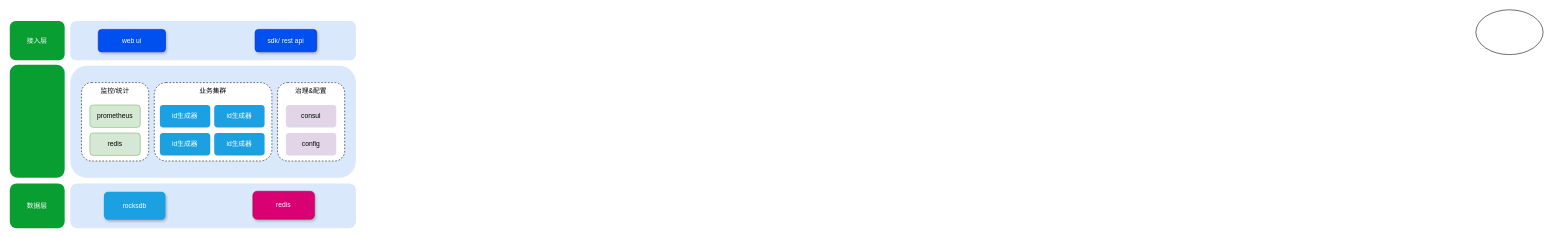
Image size: 1553x238. Some labels were removed from this diagram. Here are the shapes that lost their labels. From the top down, the centre of each, then its label:
At (1509,32): "账号初始化".
At (37,121): "服务层".
